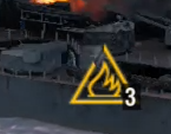3fire: (66, 70, 140, 110)
